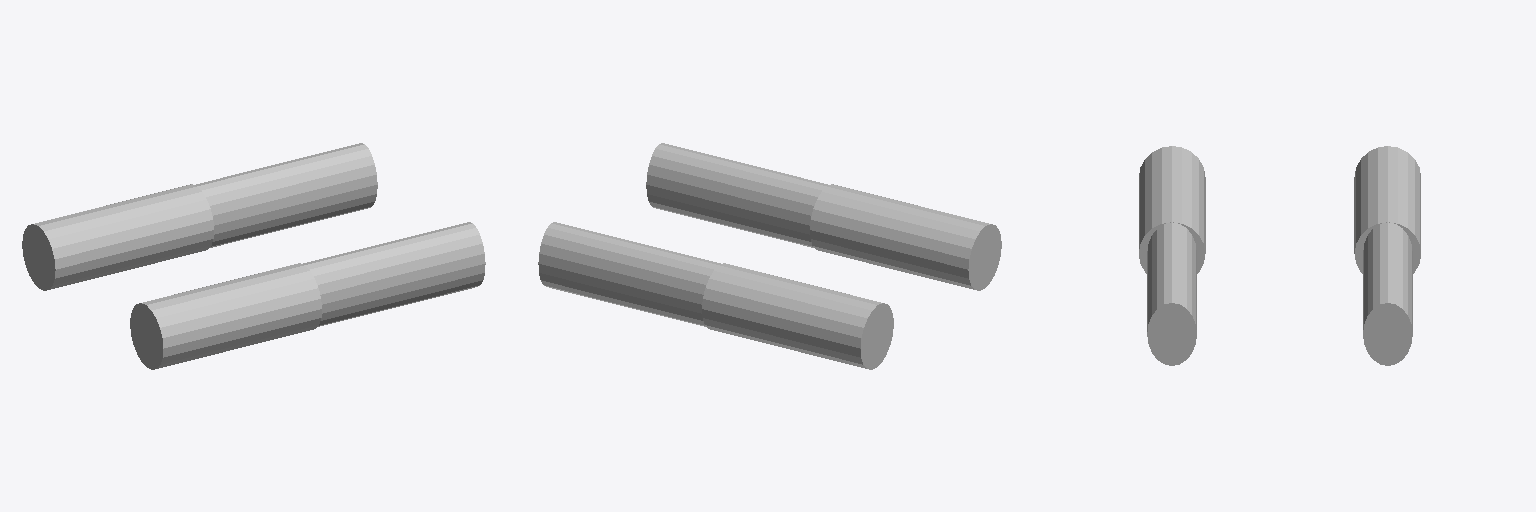
Rendered from 2 turbina.obj.
The picture shows the model from 3 angles: view 1: azimuth 30°, elevation 25°; view 2: azimuth 150°, elevation 25°; view 3: azimuth 270°, elevation 25°; orthographic projection.
Visible parts, largest first — view 1: polySurface31; view 2: polySurface31; view 3: polySurface31.
Boxes of the visible parts, <box> form: polySurface31: <box>22,143,485,369</box>; polySurface31: <box>538,143,1001,369</box>; polySurface31: <box>1139,146,1420,365</box>.
Size of the model in its own units: 24.7 by 4.7 by 18.47.